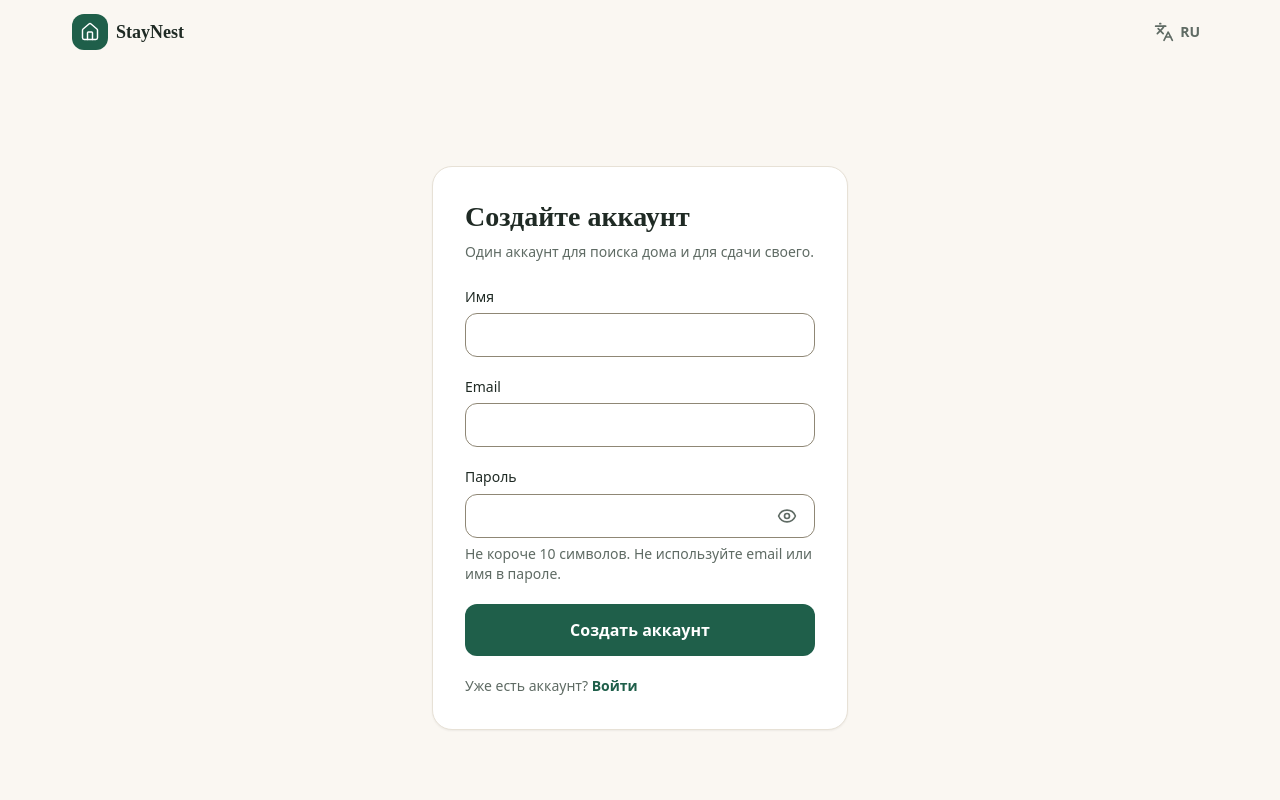
Test: App › отправляет локаль, выбранную на странице регистрации
Check: the heading "Создайте аккаунт" is shown, box top-left (465, 202), bottom-right (690, 232)
Click the button with aria-label "Переключить язык" at coordinates (1177, 32), box top-left (1146, 10), bottom-right (1208, 54)
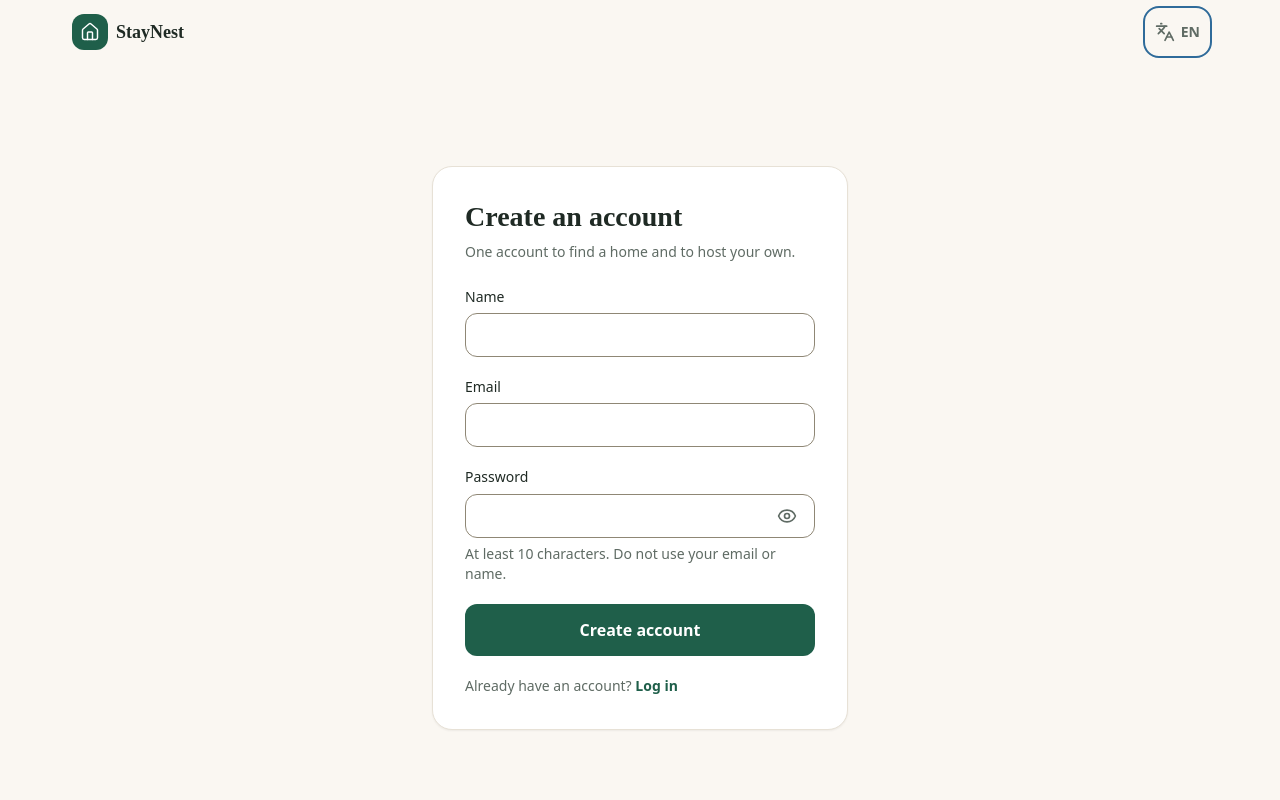
Type "Anna" into the field labelled "Name" at coordinates (640, 335), box top-left (465, 313), bottom-right (815, 357)
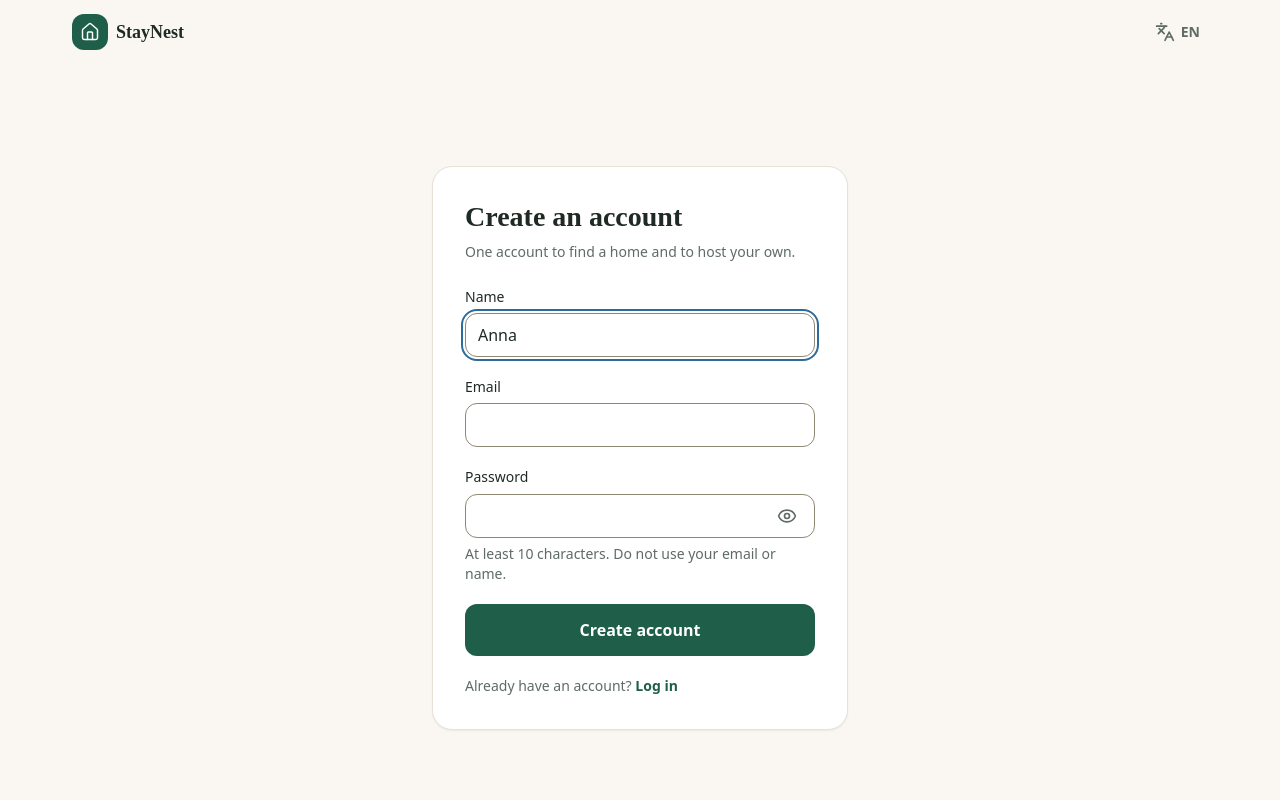
Type "anna@example.com" into the field labelled "Email" at coordinates (640, 425), box top-left (465, 403), bottom-right (815, 447)
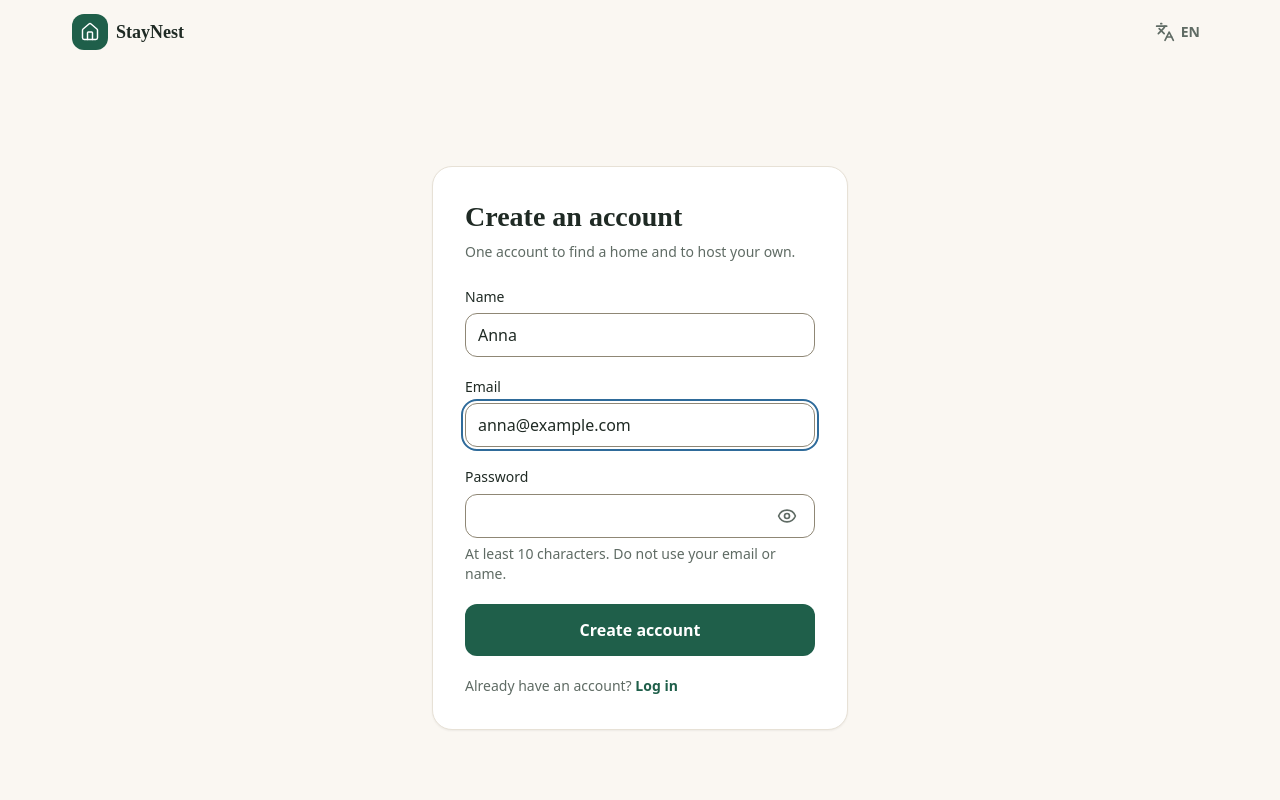
Type "Forest-Lake-2026" into the password field labelled "Password" at coordinates (640, 516), box top-left (465, 494), bottom-right (815, 538)
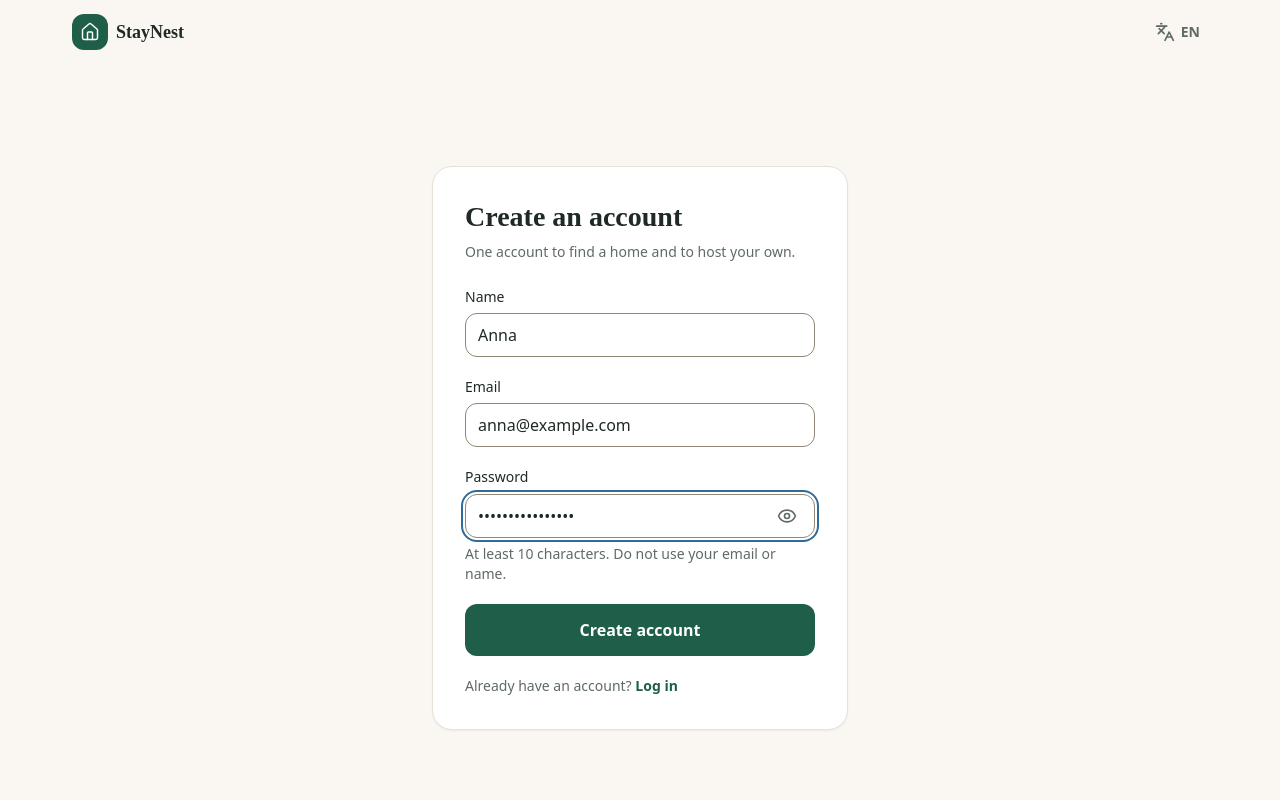
Click the button "Create account" at coordinates (640, 630), box top-left (465, 604), bottom-right (815, 656)
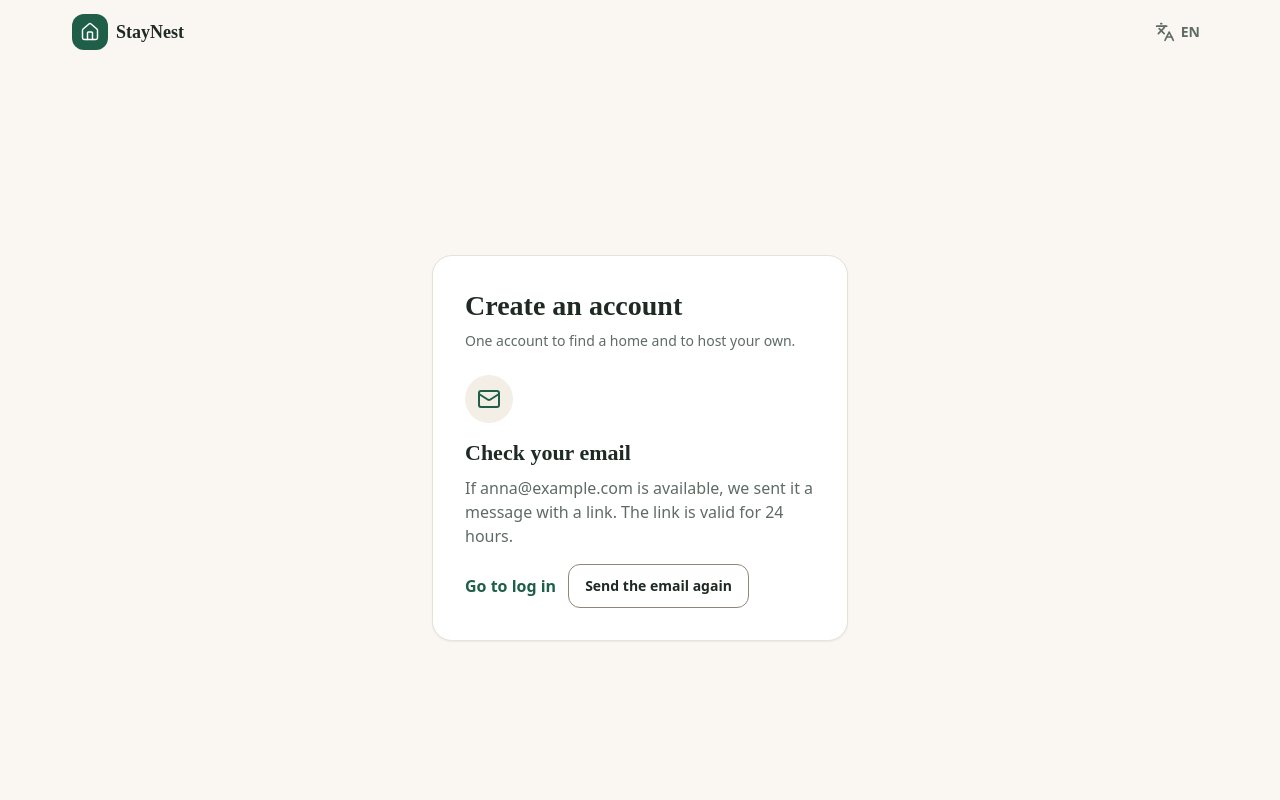
Check: the heading "Check your email" is shown, box top-left (465, 440), bottom-right (631, 465)
